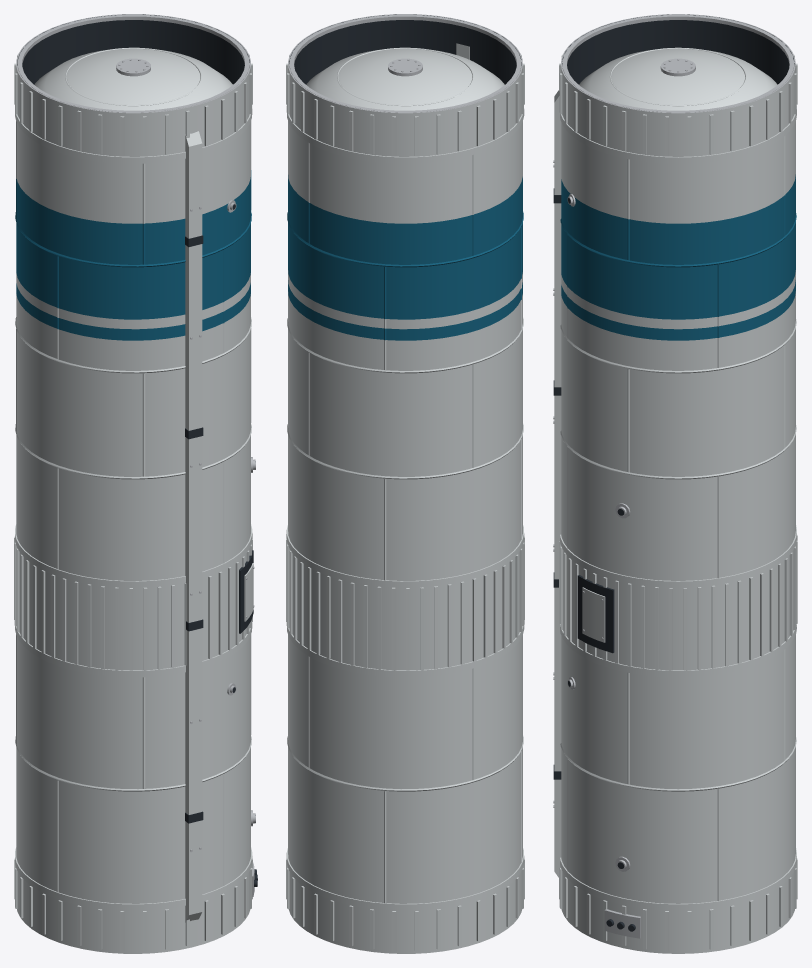
Rendered from tank_s1_s.fbx.
3 renders of one model, left to right at view 1: azimuth 30°, elevation 25°; view 2: azimuth 150°, elevation 25°; view 3: azimuth 270°, elevation 25°, orthographic.
Visible parts, largest first — view 1: tank_s1_s_LOD0; view 2: tank_s1_s_LOD0; view 3: tank_s1_s_LOD0.
Part boxes in pixels (<box>): tank_s1_s_LOD0: <box>14,14,257,953</box>; tank_s1_s_LOD0: <box>286,14,524,953</box>; tank_s1_s_LOD0: <box>553,14,797,953</box>.
Size of what is drawn, in the model's own units: 3.76 by 14.6 by 3.85.
